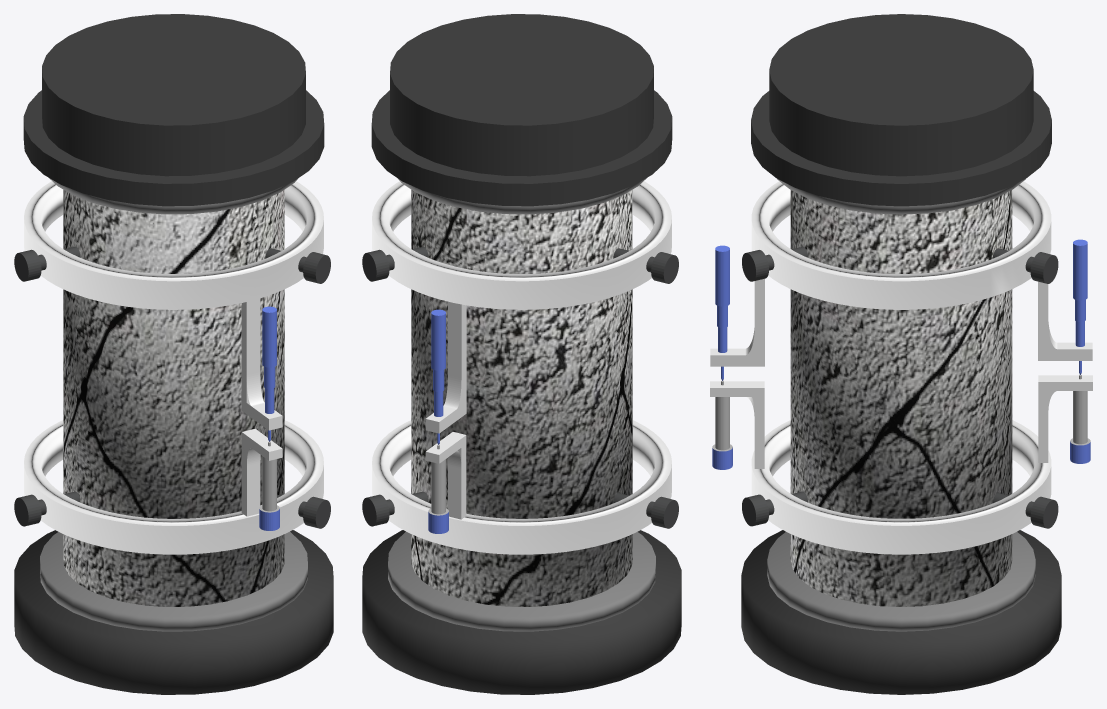
Rendered from cilindro-cone-and-shear.gltf.
3 views of the same model, side by side, from view 1: azimuth 30°, elevation 25°; view 2: azimuth 150°, elevation 25°; view 3: azimuth 270°, elevation 25° (orthographic).
Parts seen in each view (by area): view 1: cilindroConcreto, apoyo_sup, compresometro, apoyo_inf, espuma_inf, espuma_sup; view 2: cilindroConcreto, apoyo_sup, compresometro, apoyo_inf, espuma_inf, espuma_sup; view 3: cilindroConcreto, apoyo_sup, compresometro, apoyo_inf, espuma_inf, espuma_sup.
Part boxes in pixels (box(x1,y1,x2,y2)): cilindroConcreto: box(63, 190, 284, 606); apoyo_sup: box(23, 14, 324, 206); compresometro: box(14, 181, 330, 554); apoyo_inf: box(14, 530, 333, 694); espuma_inf: box(40, 531, 307, 631); espuma_sup: box(49, 178, 298, 214); cilindroConcreto: box(411, 190, 632, 606); apoyo_sup: box(371, 14, 672, 206); compresometro: box(362, 181, 678, 554); apoyo_inf: box(362, 530, 681, 694); espuma_inf: box(388, 531, 655, 631); espuma_sup: box(397, 178, 646, 214); cilindroConcreto: box(790, 190, 1012, 606); apoyo_sup: box(751, 14, 1051, 206); compresometro: box(710, 181, 1092, 554); apoyo_inf: box(741, 530, 1061, 694); espuma_inf: box(767, 532, 1035, 631); espuma_sup: box(777, 178, 1025, 214).
Size of the model in its own units: 0.2263 by 0.4159 by 0.2589.
7 materials, 1 textured.
